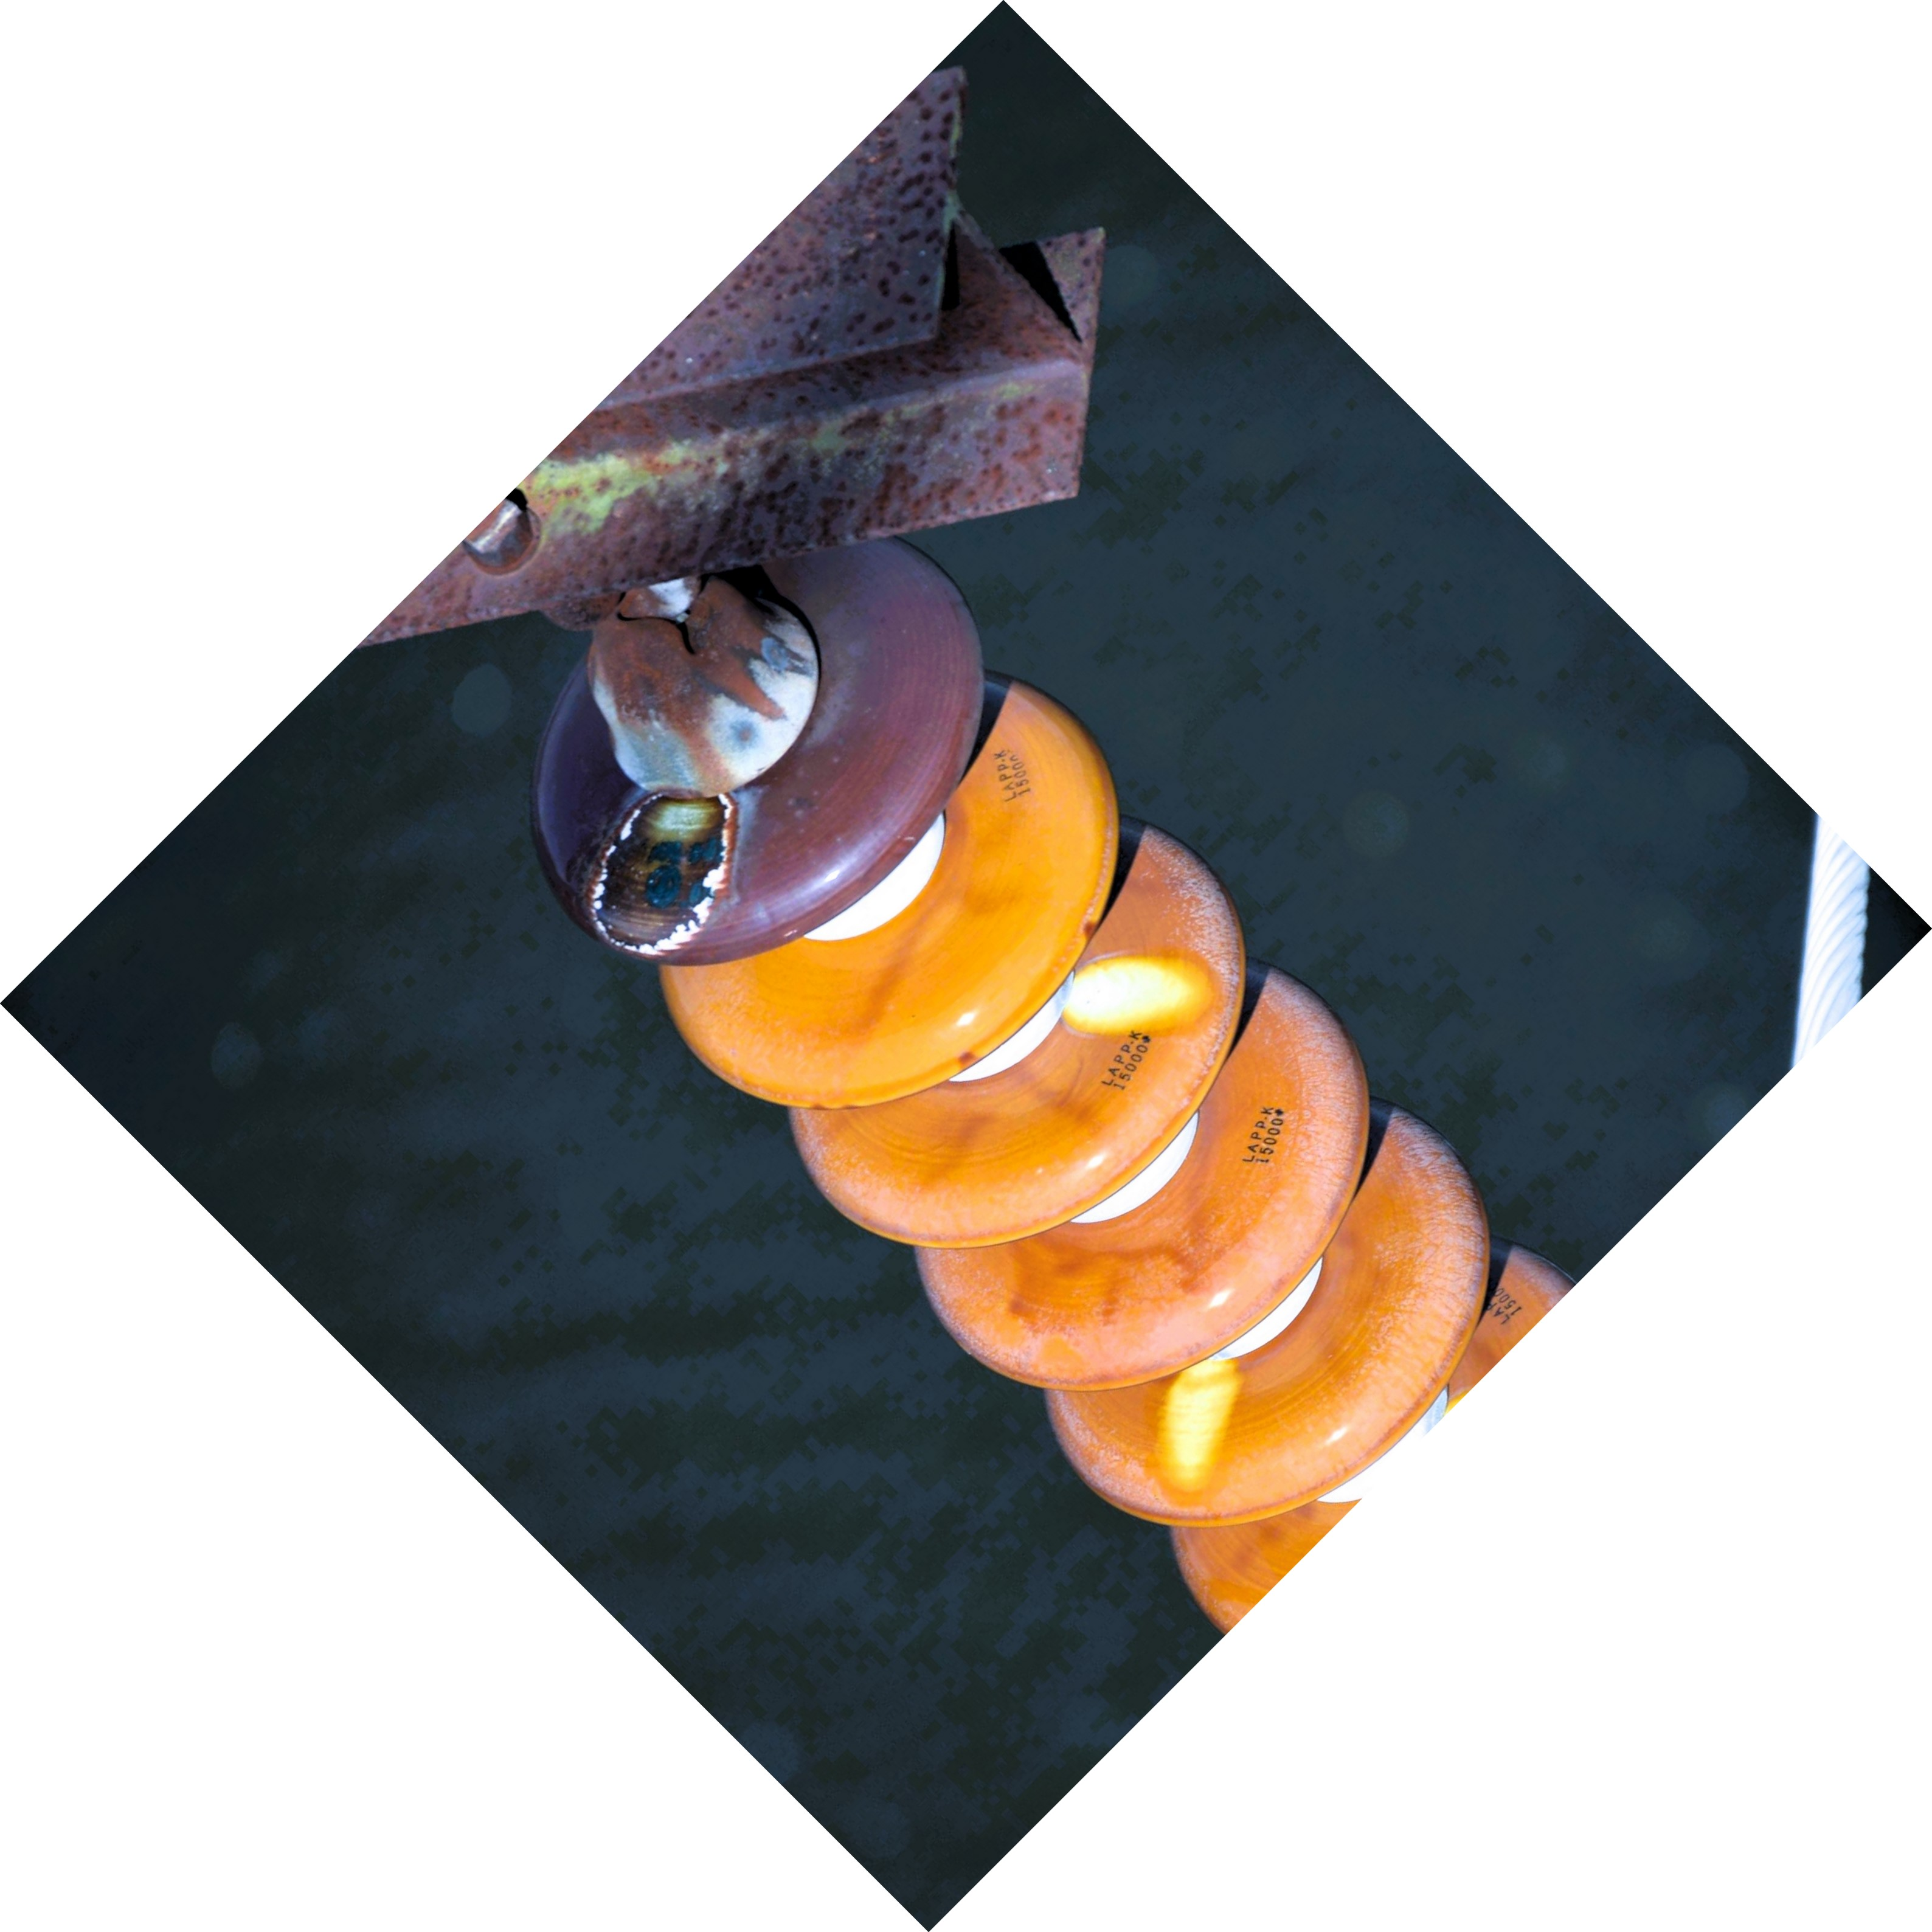Insulator flashover: (513, 510, 991, 970), (801, 809, 1274, 1253)
